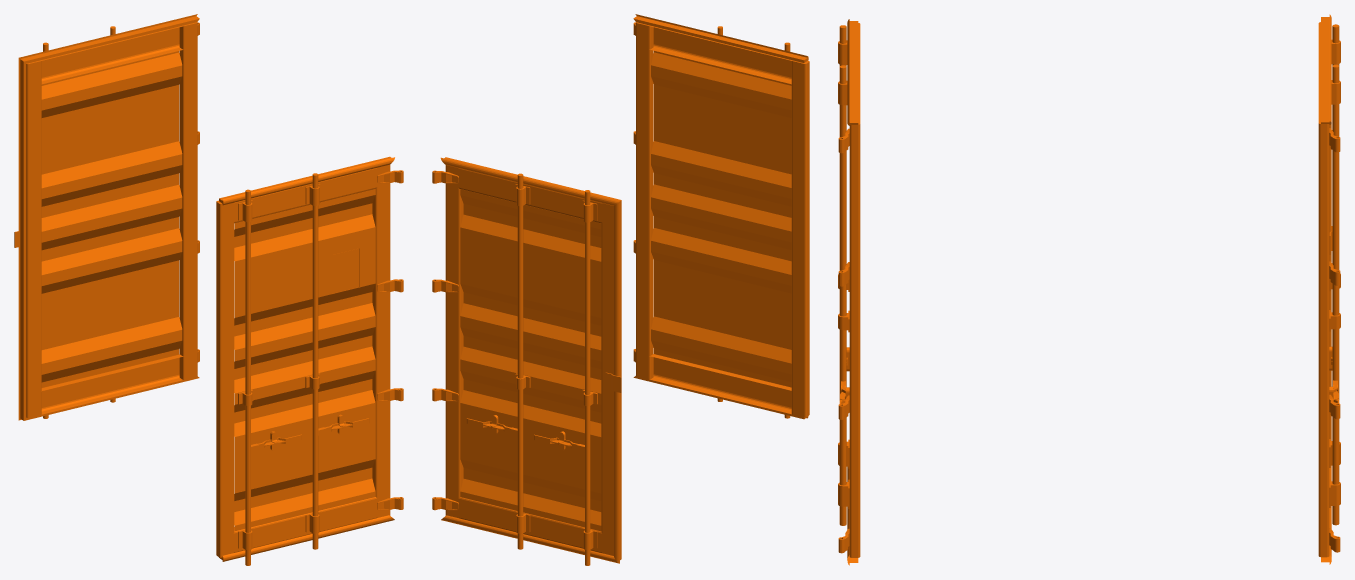
The model's file is Doors.FBX.
3 renders of one model, left to right at view 1: azimuth 30°, elevation 25°; view 2: azimuth 150°, elevation 25°; view 3: azimuth 270°, elevation 25°, orthographic. The views are drawn at different scales.
Parts seen in each view (by area): view 1: doors; view 2: doors; view 3: doors.
Boxes of the visible parts, x1,y1,x2,y2 form: doors: (14,14,403,565); doors: (432,14,809,565); doors: (838,14,1340,565).
Size of the model in its own units: 1.26 by 2.38 by 2.39.
